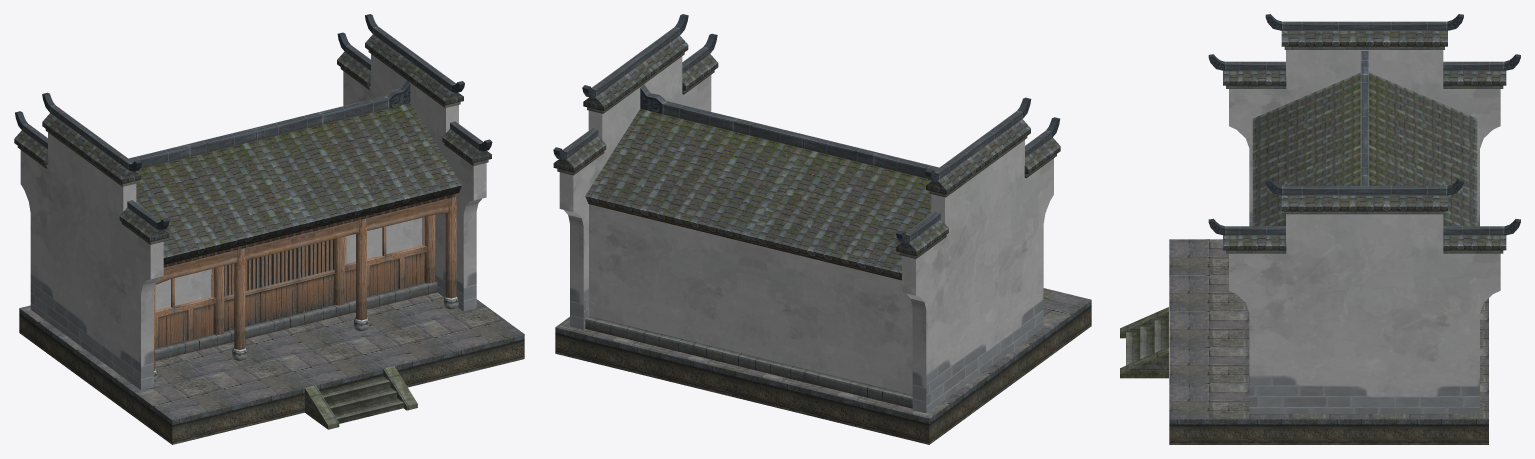
The model's file is 房子整体.fbx.
The picture shows the model from 3 angles, left to right: view 1: azimuth 30°, elevation 25°; view 2: azimuth 150°, elevation 25°; view 3: azimuth 270°, elevation 25°; orthographic projection. The views are drawn at different scales.
Parts seen in each view (by area): view 1: Box092, Box011, Box001, Box082, Box179, 对象016, 图形002, 对象011, Box002, Box180, 对象007, 对象001 (+9 smaller); view 2: Box162, Box011, Box001, Box092, Box179, Box069, 图形002, Box002, Box180, Box072, Box185, Box182 (+5 smaller); view 3: Box179, Box092, Box011, Box001, Box180, Box002, Box185, Box072, 图形002, Box182, Box183, Box009 (+5 smaller).
Boxes of the visible parts, bbox=[...] form: Box092: bbox=[19, 274, 524, 444]; Box011: bbox=[136, 103, 461, 264]; Box001: bbox=[20, 132, 163, 390]; Box082: bbox=[155, 217, 437, 360]; Box179: bbox=[343, 54, 486, 311]; 对象016: bbox=[154, 193, 456, 370]; 图形002: bbox=[129, 80, 410, 168]; 对象011: bbox=[155, 198, 448, 284]; Box002: bbox=[42, 113, 141, 186]; Box180: bbox=[365, 34, 463, 107]; 对象007: bbox=[346, 218, 422, 263]; 对象001: bbox=[155, 269, 210, 310]; Box162: bbox=[589, 204, 912, 394]; Box011: bbox=[585, 109, 931, 280]; Box001: bbox=[902, 140, 1053, 413]; Box092: bbox=[555, 288, 1091, 444]; Box179: bbox=[559, 56, 711, 329]; Box069: bbox=[585, 316, 912, 408]; 图形002: bbox=[640, 84, 938, 178]; Box002: bbox=[926, 119, 1030, 197]; Box180: bbox=[583, 36, 688, 113]; Box072: bbox=[925, 97, 1031, 181]; Box185: bbox=[582, 14, 688, 97]; Box182: bbox=[553, 136, 606, 175]; Box179: bbox=[1229, 214, 1500, 413]; Box092: bbox=[1120, 239, 1488, 444]; Box011: bbox=[1252, 72, 1477, 226]; Box001: bbox=[1229, 50, 1500, 226]; Box180: bbox=[1281, 195, 1447, 214]; Box002: bbox=[1281, 31, 1447, 49]; Box185: bbox=[1265, 178, 1463, 195]; Box072: bbox=[1265, 14, 1463, 30]; 图形002: bbox=[1360, 51, 1368, 185]; Box182: bbox=[1443, 235, 1506, 253]; Box183: bbox=[1223, 235, 1286, 253]; Box009: bbox=[1443, 71, 1506, 88].
Bounding box in the file's own units: 1444 × 963 × 1361.
